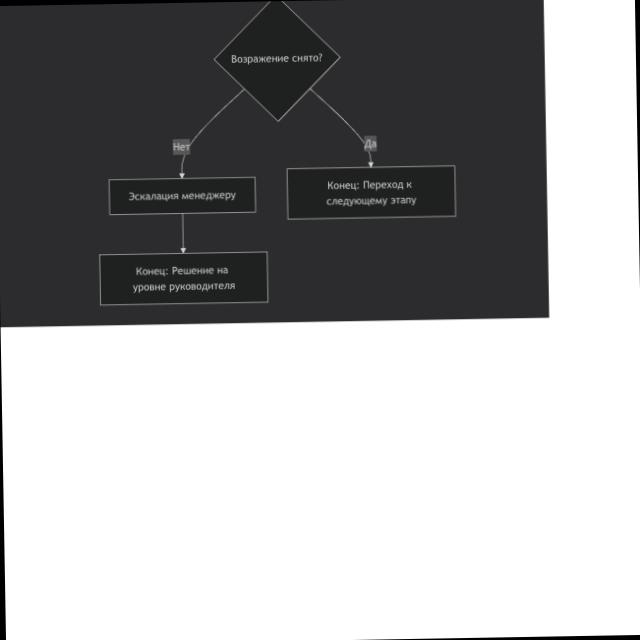arrow: (177, 88, 246, 179), (308, 87, 374, 167), (178, 212, 188, 253)
rectangle: (99, 251, 268, 305), (287, 166, 456, 219), (109, 177, 256, 214)
text_region: (172, 140, 190, 152), (364, 138, 376, 150)
